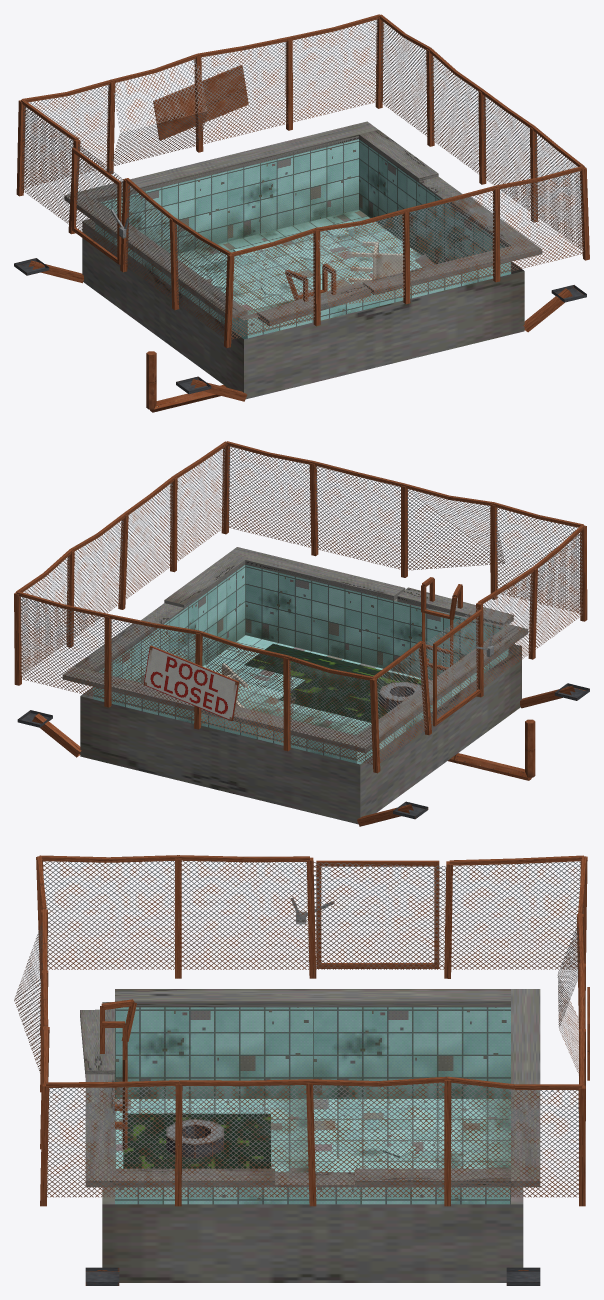
Rendered from ClosedPool.fbx.
The picture shows the model from 3 angles, top to bottom: view 1: azimuth 30°, elevation 25°; view 2: azimuth 150°, elevation 25°; view 3: azimuth 270°, elevation 25°; orthographic projection. The views are drawn at different scales.
Parts seen in each view (by area): view 1: ClosedPool; view 2: ClosedPool; view 3: ClosedPool.
Part boxes in pixels (bbox=[...]): ClosedPool: bbox=[14, 14, 589, 412]; ClosedPool: bbox=[14, 441, 589, 826]; ClosedPool: bbox=[14, 855, 589, 1285].
Size of the model in its own units: 7.1 by 3.53 by 6.84.
